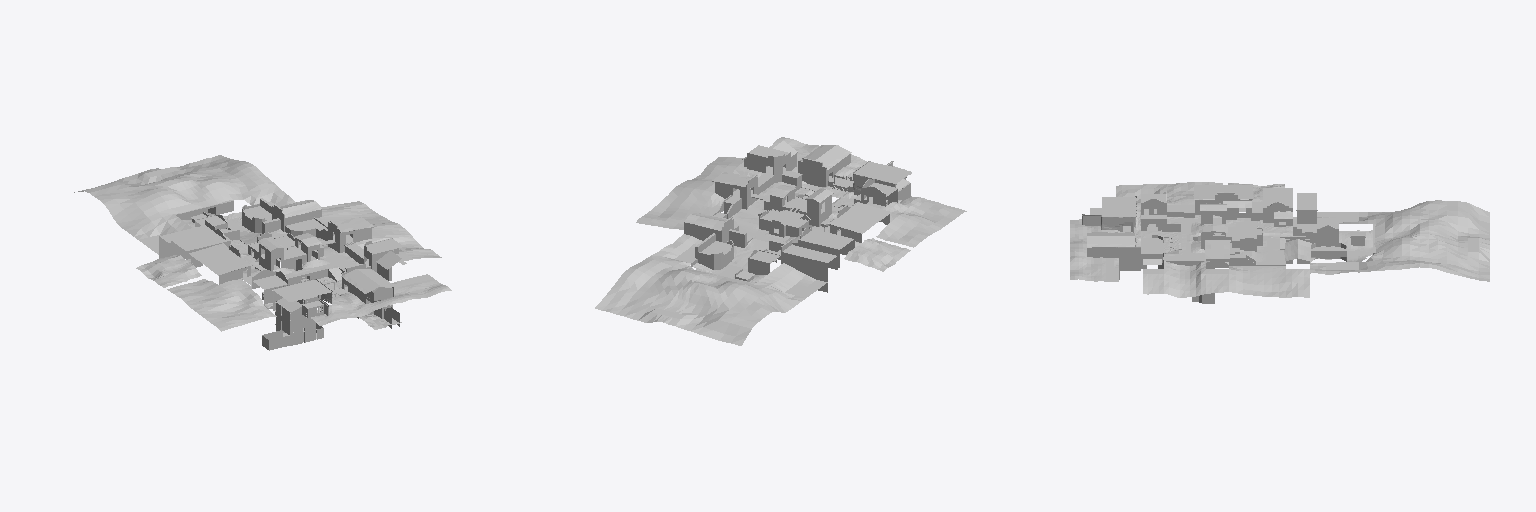
File: coaltown.obj
3 renders of one model, left to right at view 1: azimuth 30°, elevation 25°; view 2: azimuth 150°, elevation 25°; view 3: azimuth 270°, elevation 25°, orthographic.
Bounding box in the file's own units: 308 × 110 × 474.